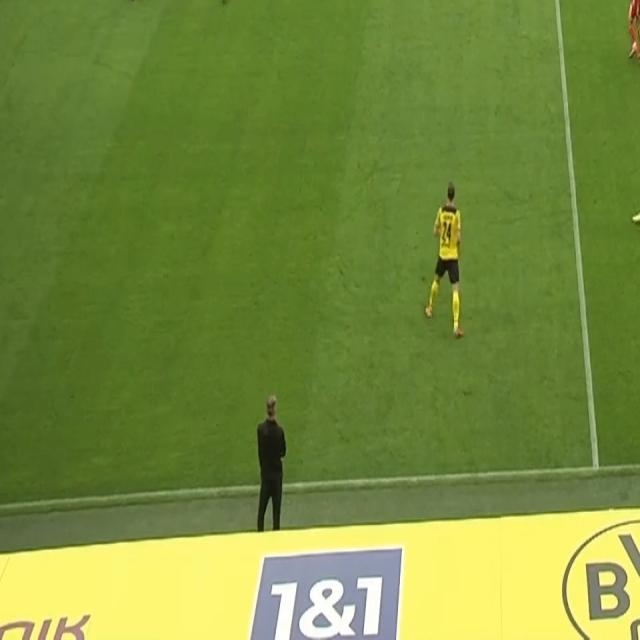ball: (218, 0, 229, 5)
